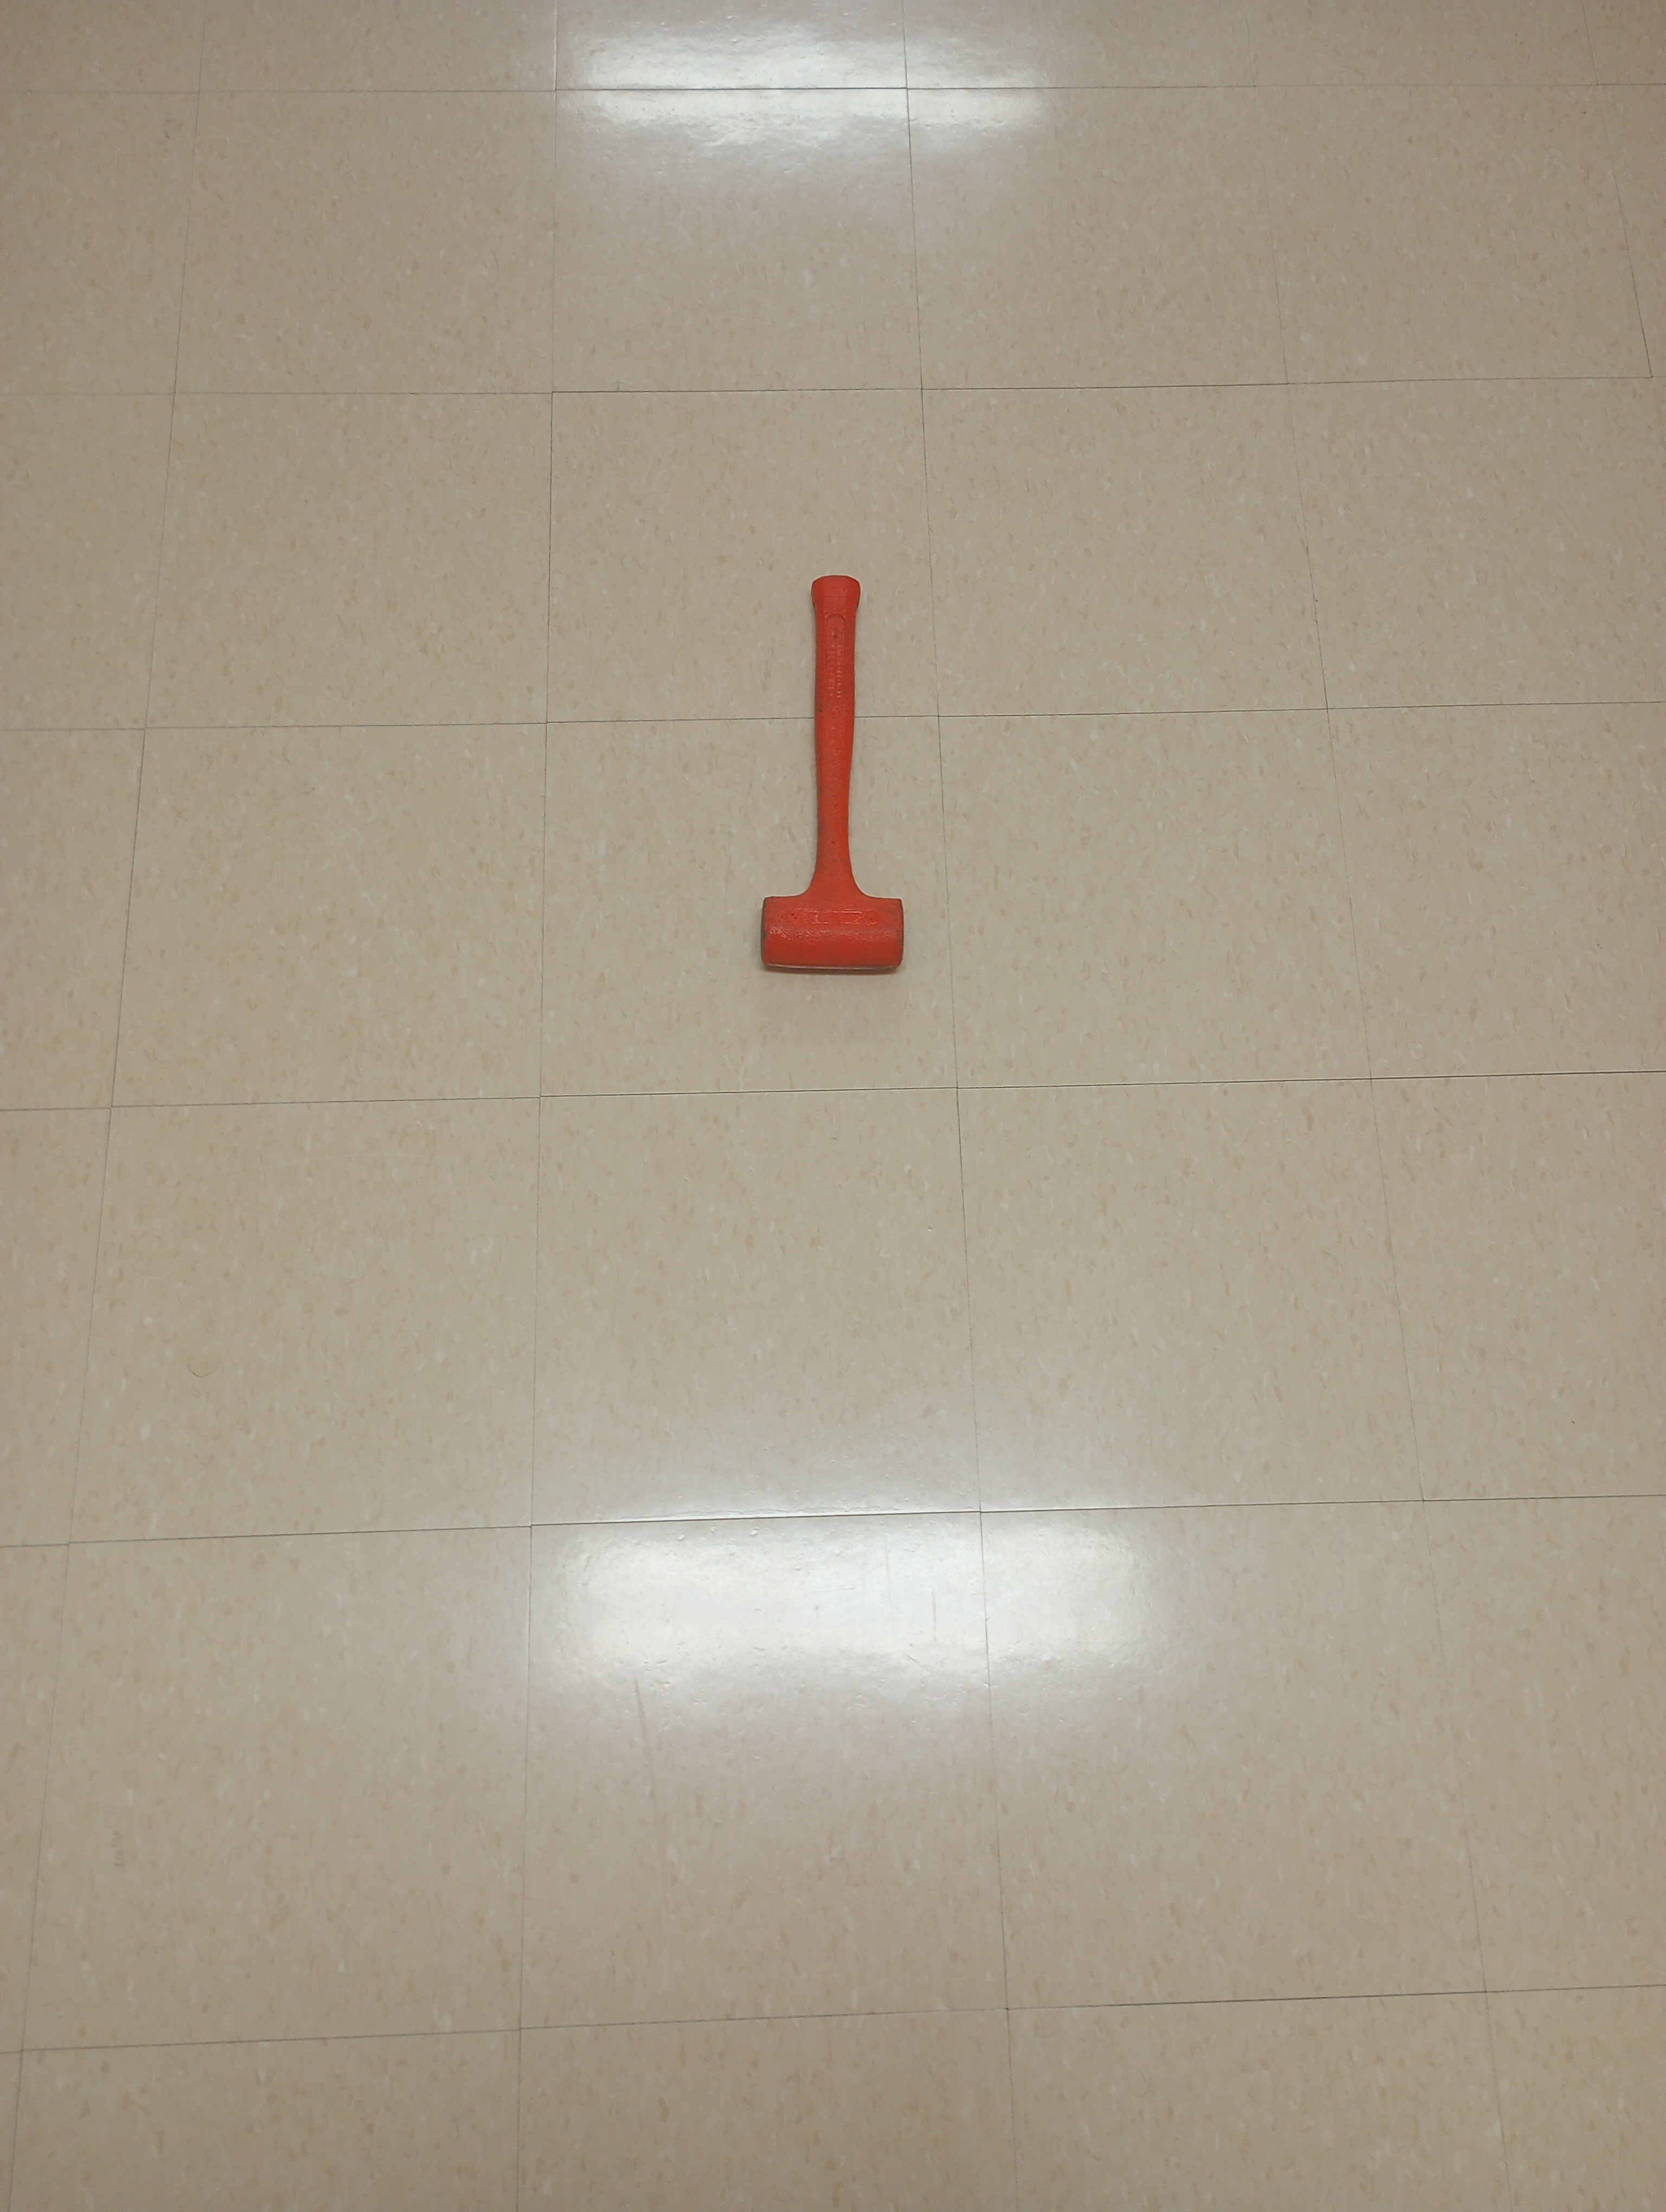bottle: (754, 558, 910, 995)
